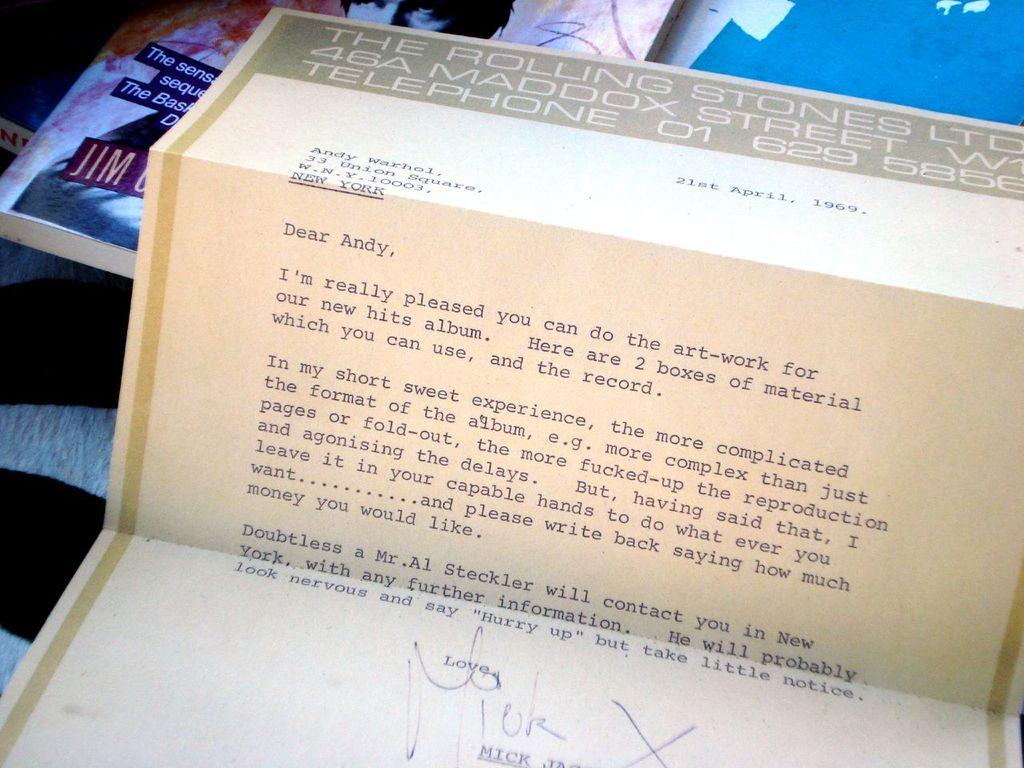Book: (0, 0, 686, 283)
